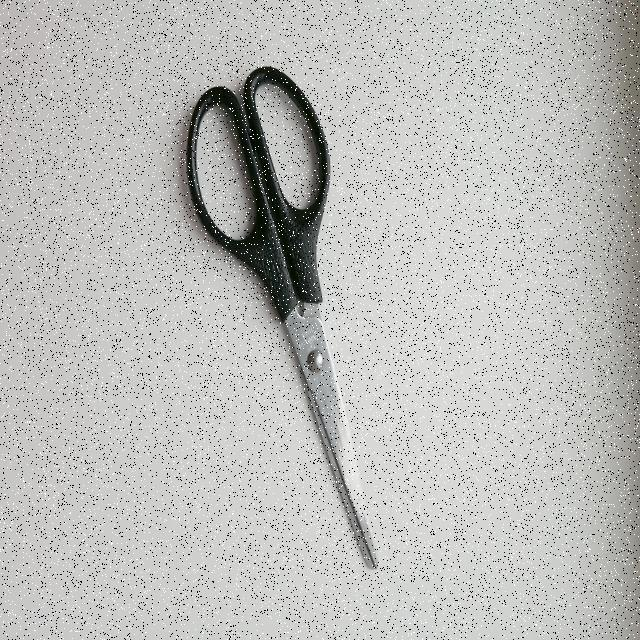scissors: (176, 56, 388, 578)
